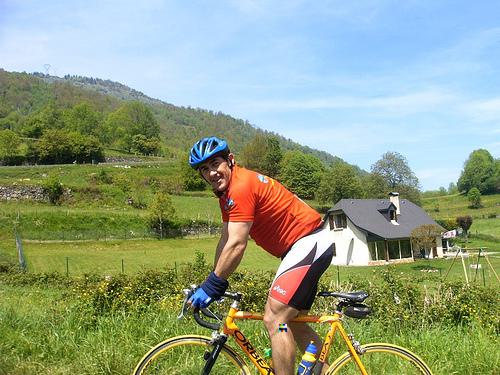bottle: (297, 340, 319, 375)
car: (133, 283, 434, 374)
person: (189, 138, 337, 375)
